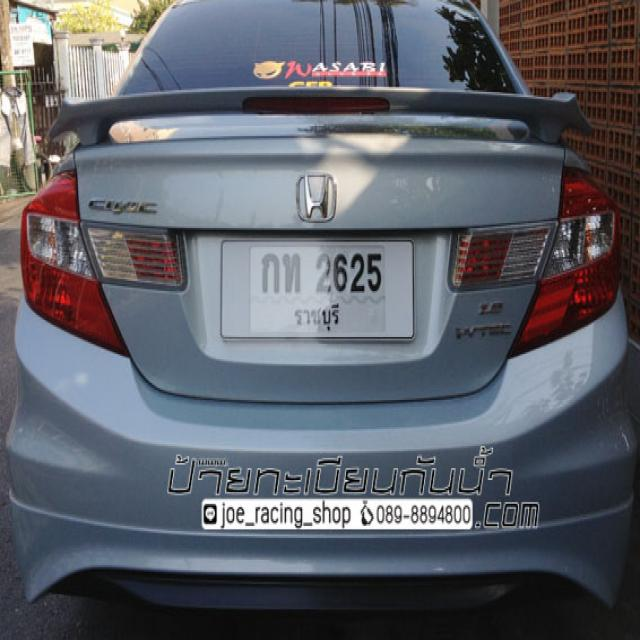license_plate: (220, 235, 415, 340)
